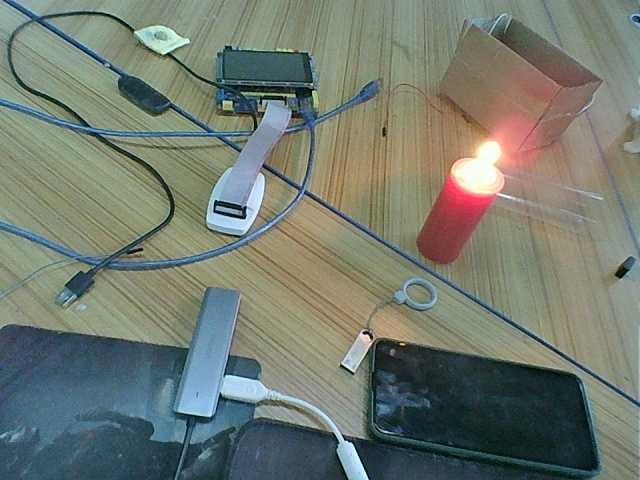candle: (411, 177, 503, 264)
fire: (456, 136, 509, 185)
